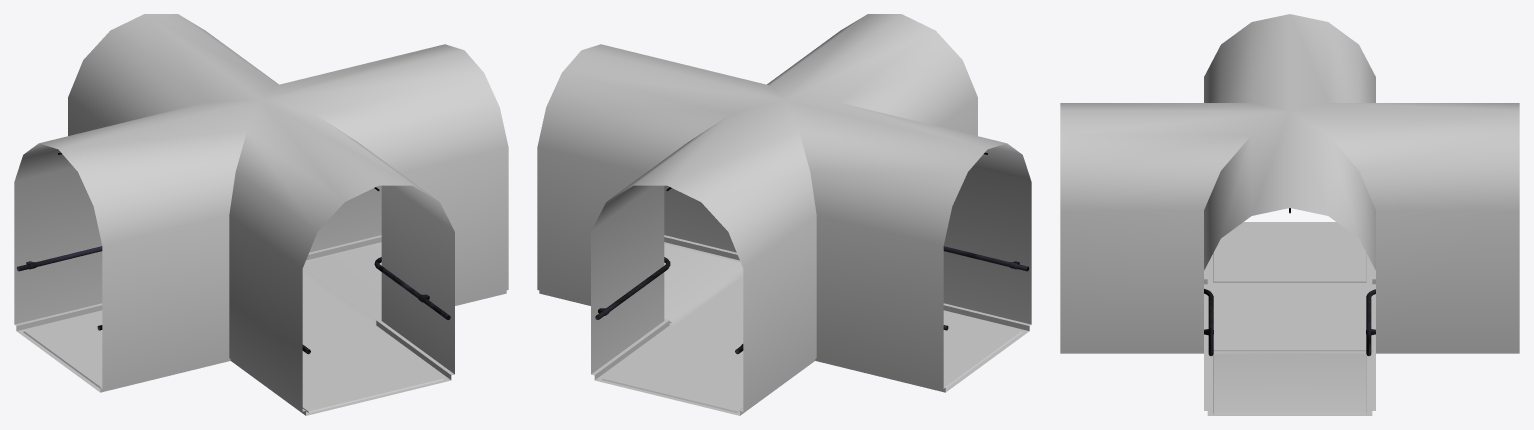
File: section_Cross.fbx
The picture shows the model from 3 angles, left to right: view 1: azimuth 30°, elevation 25°; view 2: azimuth 150°, elevation 25°; view 3: azimuth 270°, elevation 25°; orthographic projection. The views are drawn at different scales.
Parts seen in each view (by area): view 1: section_Cross; view 2: section_Cross; view 3: section_Cross.
Part boxes in pixels (x1,y1,x2,y2): section_Cross: (14,14,508,415); section_Cross: (537,14,1031,415); section_Cross: (1060,14,1519,415).
Bounding box in the file's own units: 800 × 400 × 800.
